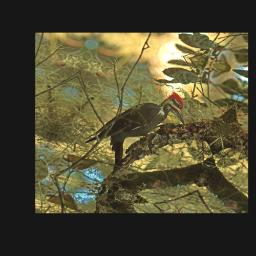Woodpecker: (82, 74, 196, 168)
